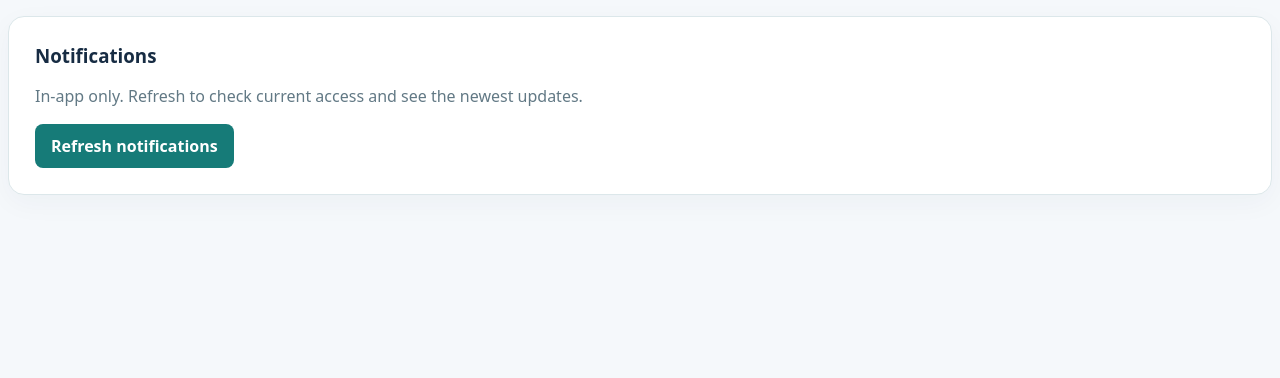
Test: loads older notifications and keeps the current page
Click the button "Refresh notifications" at (134, 146), box [35,124,234,168]
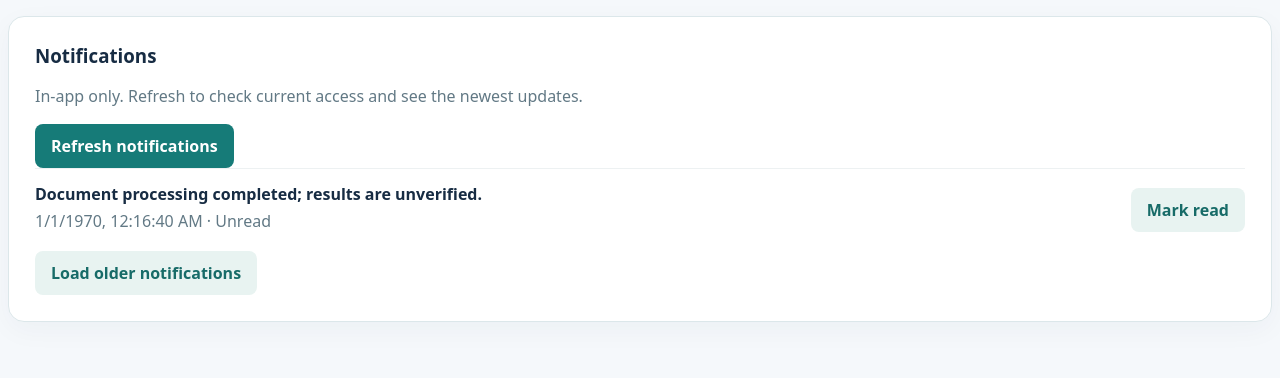
Click the button "Load older notifications" at (146, 273), box [35,251,257,295]
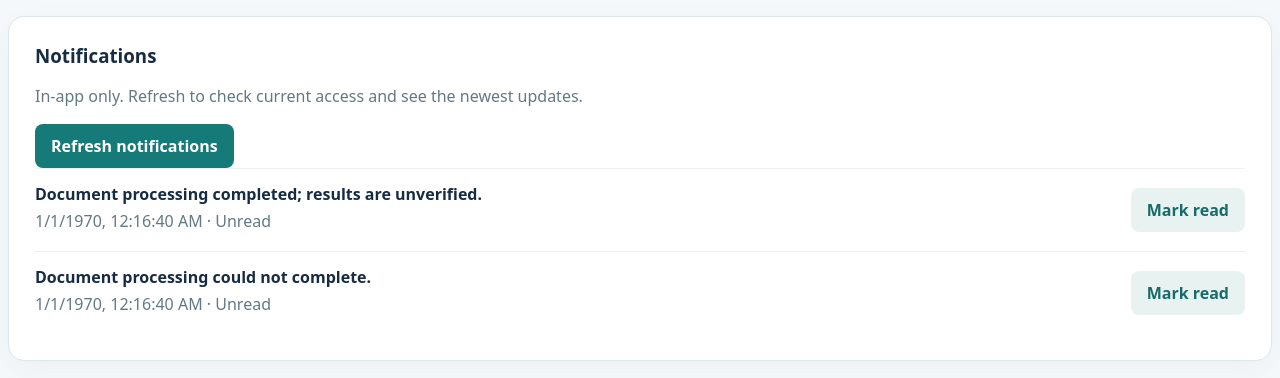
Result: the text "Document processing completed; results are unverified." is shown at [35,183,482,205]
Result: the text "Document processing could not complete." is shown at [35,266,371,288]
